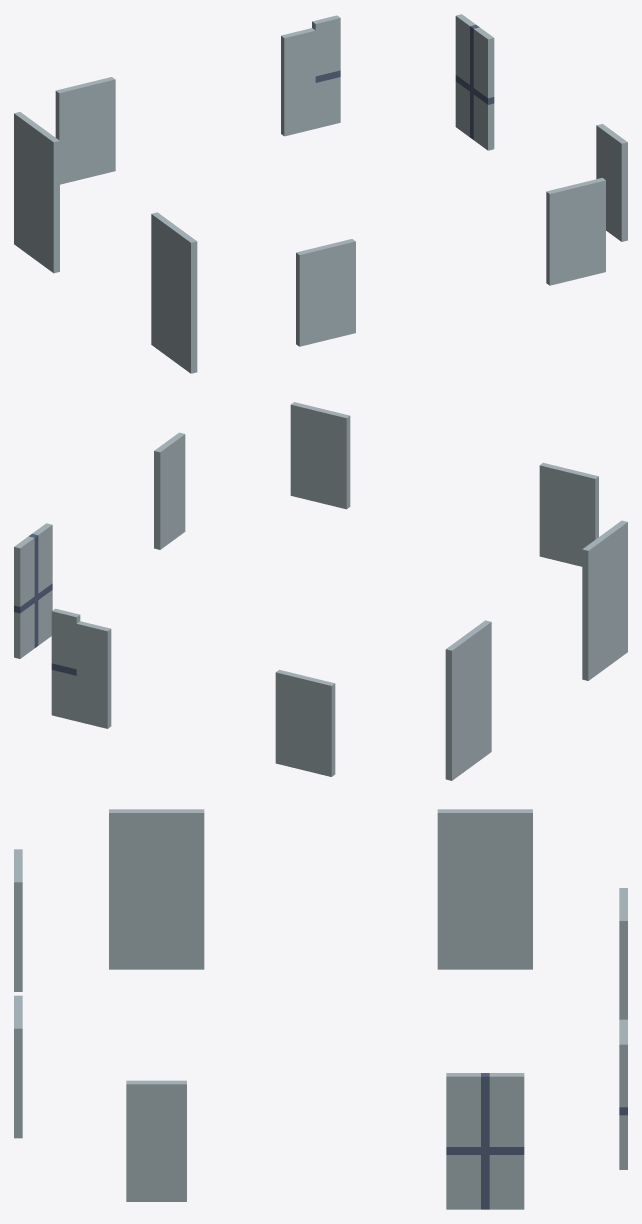
File: brickhouse-5.obj
3 views of the same model, one above another, from view 1: azimuth 30°, elevation 25°; view 2: azimuth 150°, elevation 25°; view 3: azimuth 270°, elevation 25° (orthographic). The views are drawn at different scales.
Size of the model in its own units: 7.1 by 2 by 7.1.
Materials: 1 (1 with a texture image).
